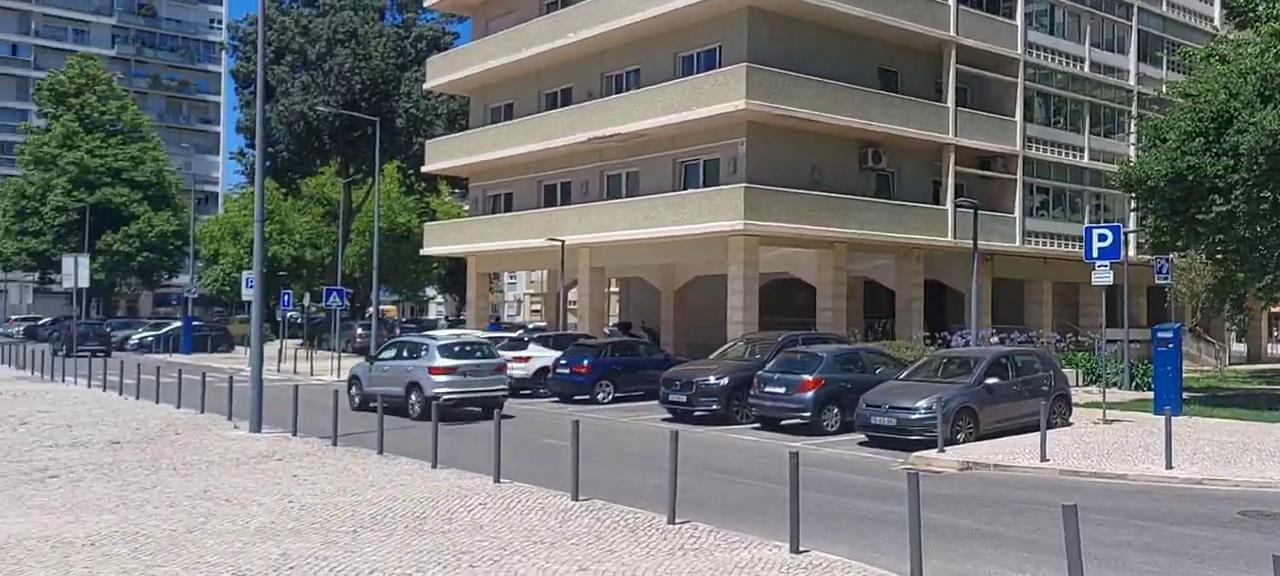Estacionamento autorizado: (1082, 221, 1126, 268)
